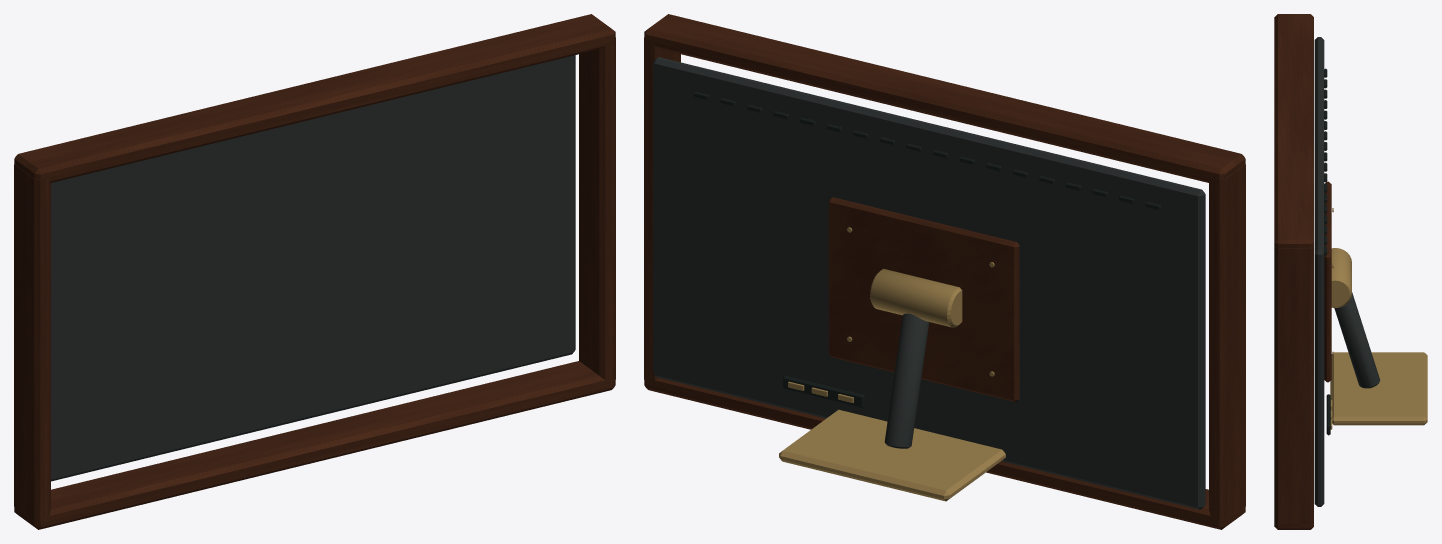
File: monitor.glb
The picture shows the model from 3 angles, left to right: view 1: azimuth 30°, elevation 25°; view 2: azimuth 150°, elevation 25°; view 3: azimuth 270°, elevation 25°; orthographic projection. The views are drawn at different scales.
Visible parts, largest first — view 1: part::monitor/display-rear-shell-001, part::monitor/display-top-walnut-bezel-001, part::monitor/display-bottom-walnut-bezel-001, part::monitor/display-left-walnut-bezel-001, part::monitor/display-right-walnut-bezel-001; view 2: part::monitor/display-rear-shell-001, part::monitor/display-rear-service-cover-001, part::monitor/display-top-walnut-bezel-001, part::monitor/display-left-walnut-bezel-001, part::monitor/display-brass-footing-001, part::monitor/display-bottom-walnut-bezel-001, part::monitor/display-tilt-hinge-001, part::monitor/display-stand-upright-001, part::monitor/display-right-walnut-bezel-001, part::monitor/display-input-recess-001; view 3: part::monitor/display-right-walnut-bezel-001, part::monitor/display-top-walnut-bezel-001, part::monitor/display-brass-footing-001, part::monitor/display-rear-shell-001, part::monitor/display-stand-upright-001, part::monitor/display-rear-service-cover-001, part::monitor/display-tilt-hinge-001, part::monitor/display-bottom-walnut-bezel-001, part::monitor/display-input-recess-001.
Boxes of the visible parts, x1,y1,x2,y2 form: part::monitor/display-rear-shell-001: [51, 55, 575, 481]; part::monitor/display-top-walnut-bezel-001: [14, 14, 615, 182]; part::monitor/display-bottom-walnut-bezel-001: [14, 361, 615, 529]; part::monitor/display-left-walnut-bezel-001: [14, 164, 50, 522]; part::monitor/display-right-walnut-bezel-001: [579, 37, 615, 381]; part::monitor/display-rear-shell-001: [653, 57, 1205, 509]; part::monitor/display-rear-service-cover-001: [828, 197, 1019, 401]; part::monitor/display-top-walnut-bezel-001: [644, 14, 1245, 183]; part::monitor/display-left-walnut-bezel-001: [1209, 164, 1245, 522]; part::monitor/display-brass-footing-001: [779, 409, 1005, 501]; part::monitor/display-bottom-walnut-bezel-001: [644, 377, 1245, 529]; part::monitor/display-tilt-hinge-001: [870, 269, 962, 327]; part::monitor/display-stand-upright-001: [884, 313, 929, 448]; part::monitor/display-right-walnut-bezel-001: [644, 37, 680, 383]; part::monitor/display-input-recess-001: [783, 376, 864, 408]; part::monitor/display-right-walnut-bezel-001: [1274, 247, 1313, 523]; part::monitor/display-top-walnut-bezel-001: [1274, 14, 1313, 247]; part::monitor/display-brass-footing-001: [1330, 352, 1427, 425]; part::monitor/display-rear-shell-001: [1314, 37, 1324, 506]; part::monitor/display-stand-upright-001: [1334, 292, 1380, 388]; part::monitor/display-rear-service-cover-001: [1324, 181, 1331, 382]; part::monitor/display-tilt-hinge-001: [1331, 248, 1351, 307]; part::monitor/display-bottom-walnut-bezel-001: [1274, 522, 1313, 529]; part::monitor/display-input-recess-001: [1326, 394, 1330, 435].
Bounding box in the file's own units: 1.23 × 0.7275 × 0.347.
4 materials, 1 textured.
